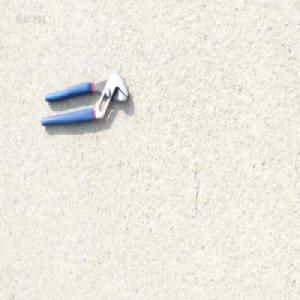Pliers: (41, 70, 131, 128)
